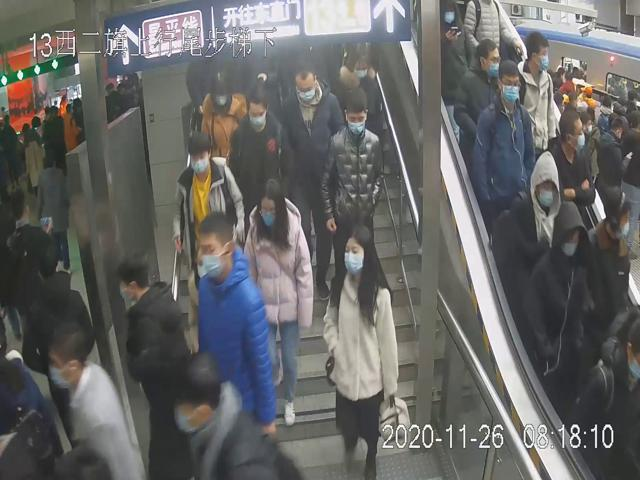person: (322, 222, 407, 480), (190, 204, 277, 440), (242, 174, 316, 428), (318, 85, 384, 270), (489, 148, 566, 296), (170, 128, 245, 271), (471, 58, 535, 212), (229, 83, 295, 207), (276, 58, 346, 166), (195, 70, 248, 169), (334, 42, 385, 119)
